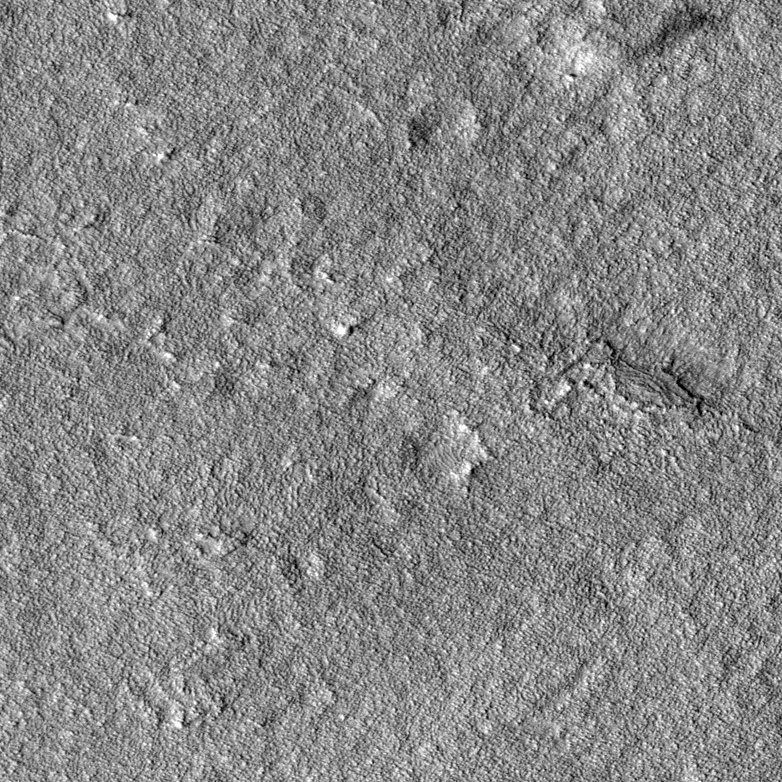dust_devil: (570, 1, 726, 79)
